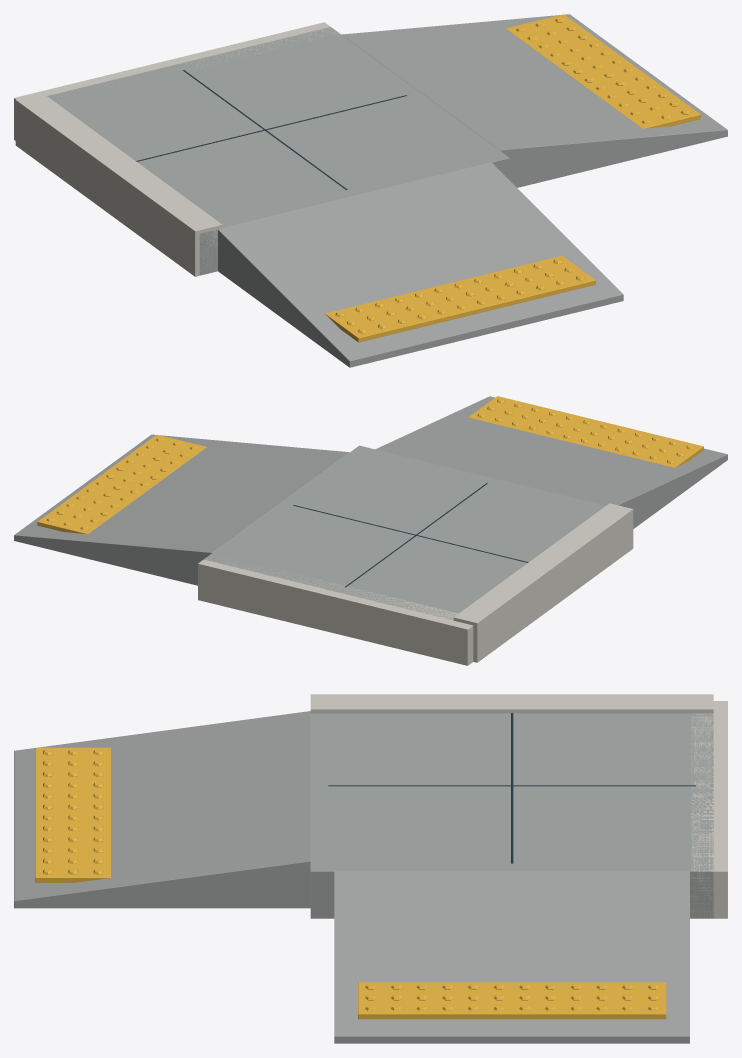
Rendered from b13_dual_direction_corner_ramps.glb.
The picture shows the model from 3 angles, top to bottom: view 1: azimuth 30°, elevation 25°; view 2: azimuth 150°, elevation 25°; view 3: azimuth 270°, elevation 25°; orthographic projection. The views are drawn at different scales.
Parts seen in each view (by area): view 1: b13_dual_direction_corner_ramps; view 2: b13_dual_direction_corner_ramps; view 3: b13_dual_direction_corner_ramps.
Part boxes in pixels (x1=…): b13_dual_direction_corner_ramps: x1=14, y1=14, x2=727, y2=367; b13_dual_direction_corner_ramps: x1=14, y1=396, x2=727, y2=665; b13_dual_direction_corner_ramps: x1=14, y1=694, x2=727, y2=1043.
Bounding box in the file's own units: 2.97 × 0.24 × 3.01.
